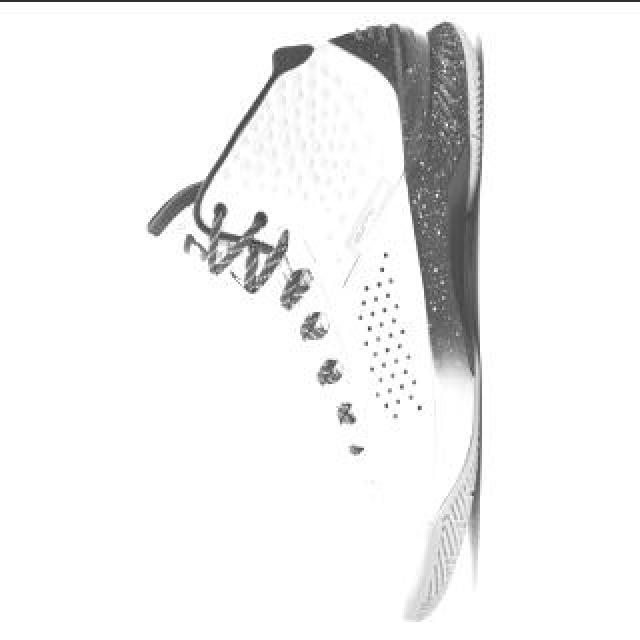shoe: (142, 19, 484, 619)
